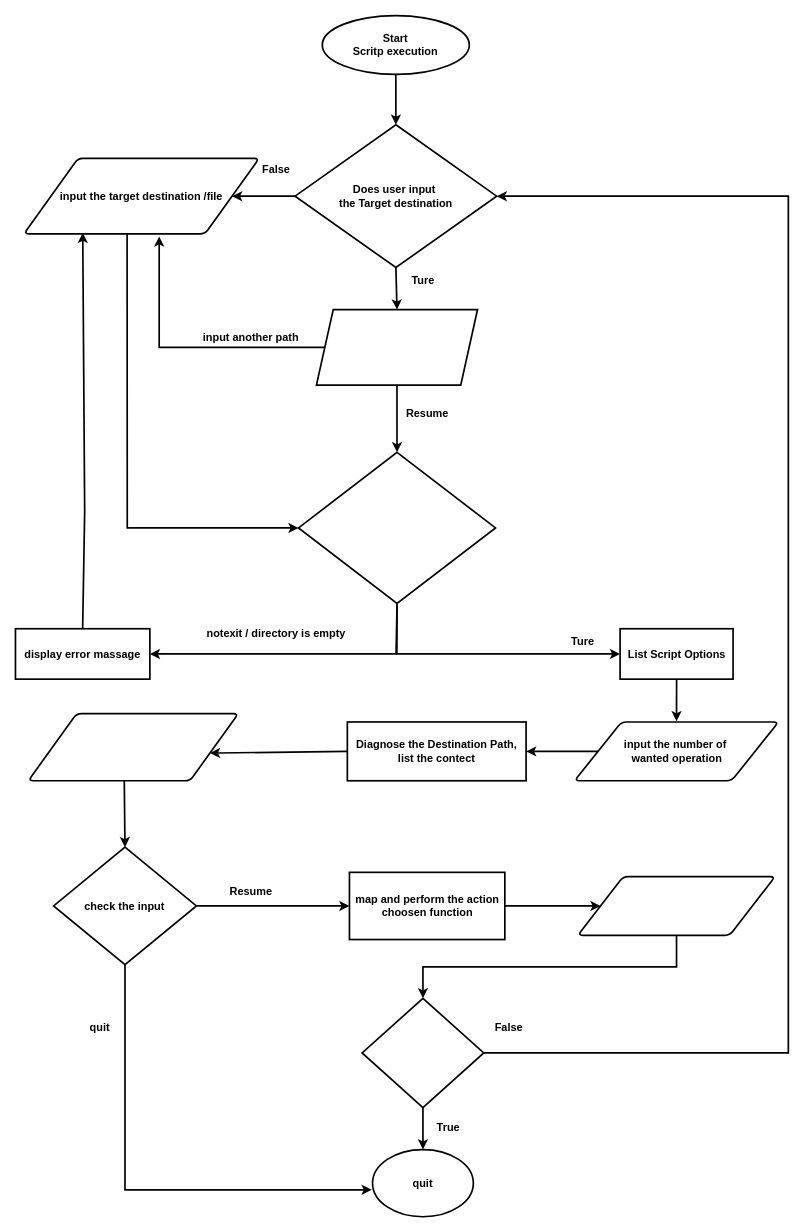
Image size: 811x1231. Some labels were removed from this diagram. The box of each missing label's shape, as (x1, y1, x2, y2) in pixels:
ask for approval from user to procced or abort: (27, 712, 239, 781)
Check: (361, 997, 484, 1108)
Check if the input is existing ,empty and it's type: (297, 451, 496, 604)
choose another operation or quite: (577, 875, 776, 936)
choose to resuem or input another path: (315, 308, 478, 386)
